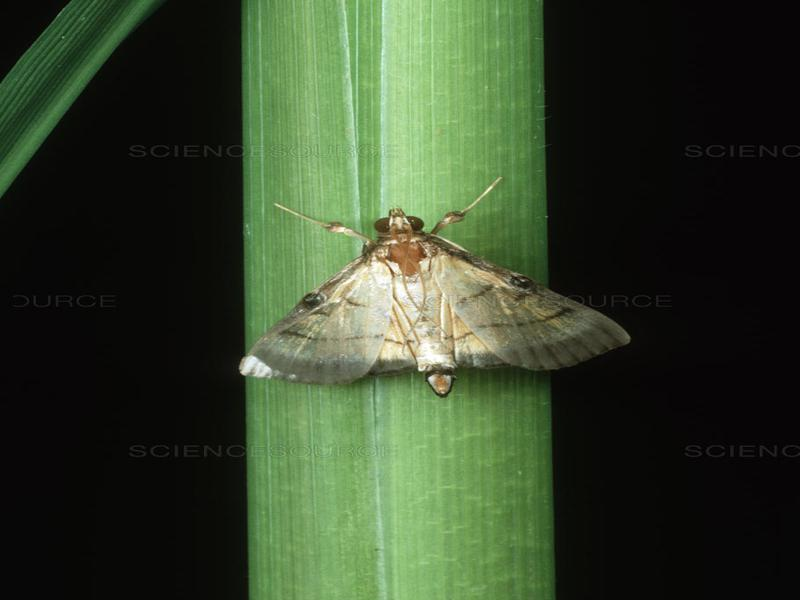Leaf_folder: (231, 202, 647, 397)
